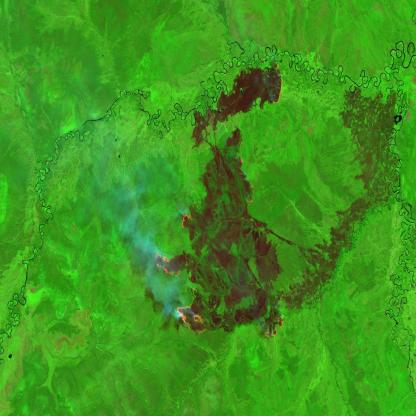fire: (154, 210, 207, 339), (238, 154, 257, 215), (269, 60, 288, 106), (266, 310, 286, 344)
